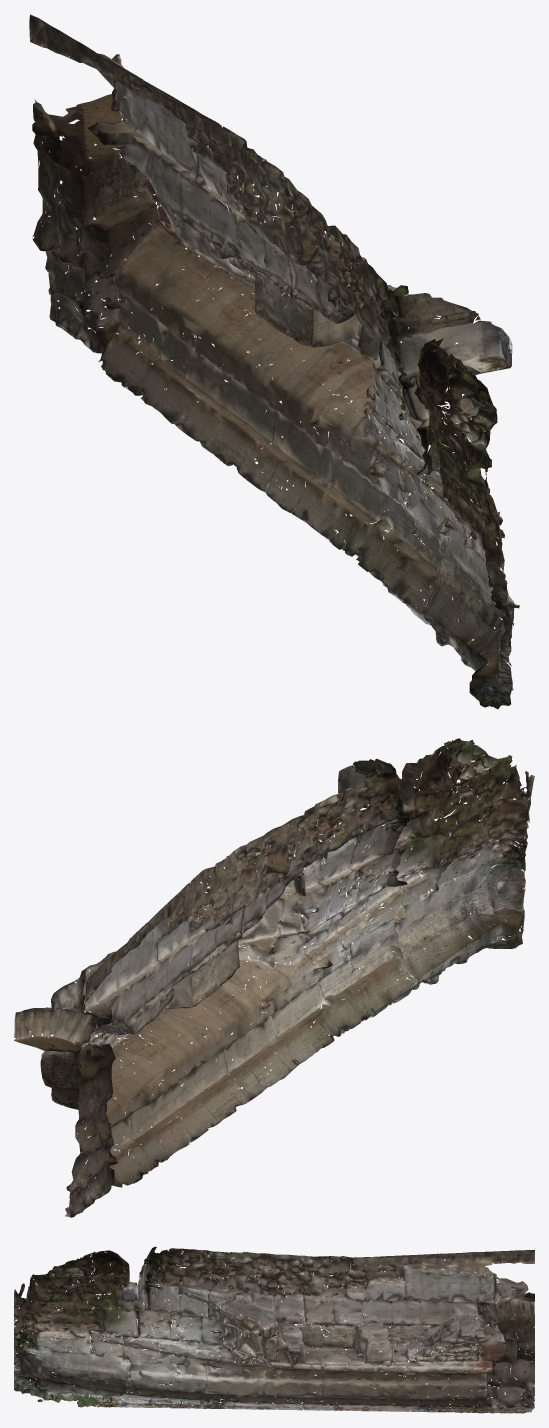
The model's file is tiberina.glb.
3 renders of one model, top to bottom at view 1: azimuth 30°, elevation 25°; view 2: azimuth 150°, elevation 25°; view 3: azimuth 270°, elevation 25°, orthographic. The views are drawn at different scales.
Visible parts, largest first — view 1: NAVE_TIBERINA_OBJ; view 2: NAVE_TIBERINA_OBJ; view 3: NAVE_TIBERINA_OBJ.
Boxes of the visible parts, <box> form: NAVE_TIBERINA_OBJ: <box>29,14,519,709</box>; NAVE_TIBERINA_OBJ: <box>14,738,534,1217</box>; NAVE_TIBERINA_OBJ: <box>14,1246,534,1413</box>.
Size of the model in its own units: 2.29 by 3.8 by 11.36.
1 material, 1 textured.
